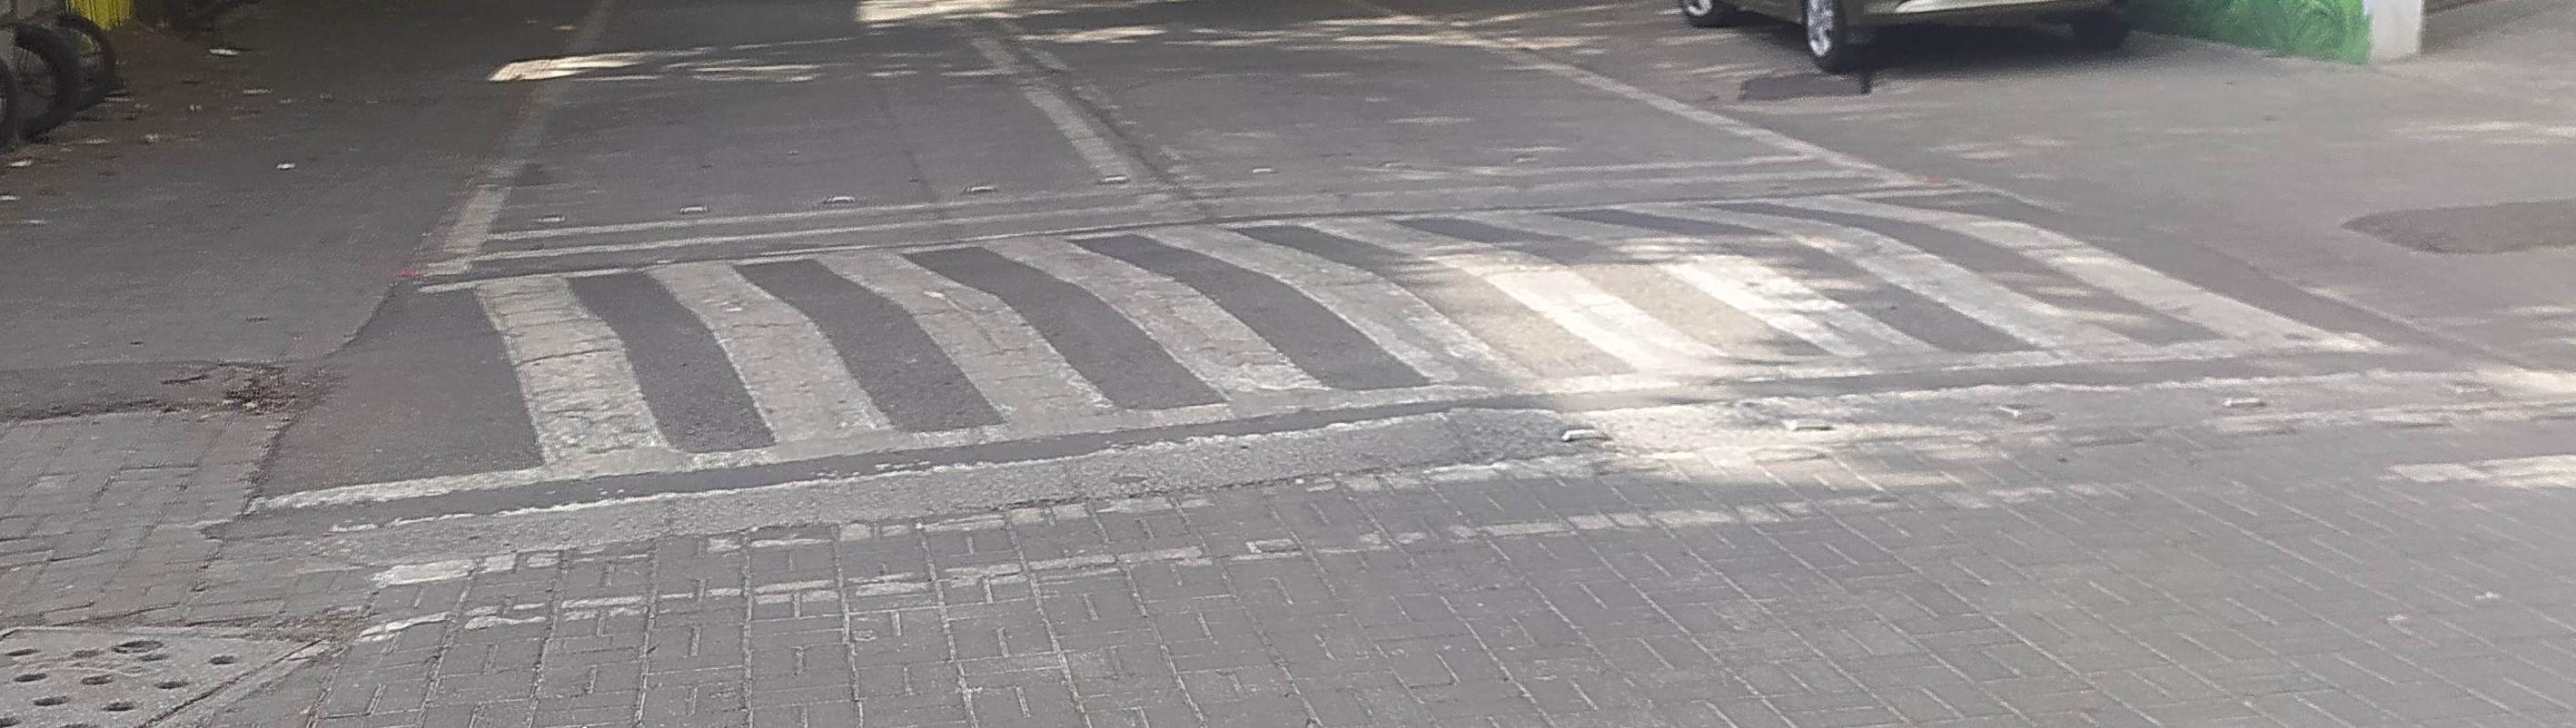speed-bump: (263, 163, 2495, 533)
